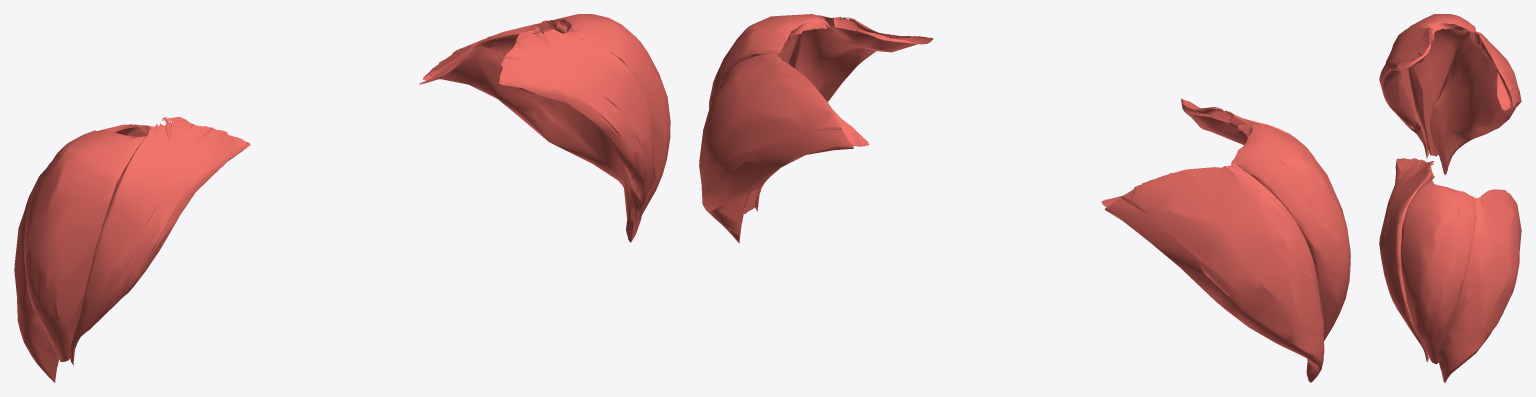
The model's file is supplement-shoulder-deltoid.glb.
3 views of the same model, side by side, from view 1: azimuth 30°, elevation 25°; view 2: azimuth 150°, elevation 25°; view 3: azimuth 270°, elevation 25° (orthographic). The views are drawn at different scales.
Visible parts, largest first — view 1: shoulder:deltoid:isa:FJ1468, shoulder:deltoid:isa:FJ1467, shoulder:deltoid:isa:FJ1468M, shoulder:deltoid:isa:FJ1513M, shoulder:deltoid:isa:FJ1467M, shoulder:deltoid:isa:FJ1513; view 2: shoulder:deltoid:isa:FJ1513, shoulder:deltoid:isa:FJ1513M, shoulder:deltoid:isa:FJ1467, shoulder:deltoid:isa:FJ1468M, shoulder:deltoid:isa:FJ1467M, shoulder:deltoid:isa:FJ1468; view 3: shoulder:deltoid:isa:FJ1467M, shoulder:deltoid:isa:FJ1513M, shoulder:deltoid:isa:FJ1513, shoulder:deltoid:isa:FJ1468M, shoulder:deltoid:isa:FJ1467, shoulder:deltoid:isa:FJ1468.
Boxes of the visible parts, x1,y1,x2,y2 form: shoulder:deltoid:isa:FJ1468: (70,116,250,365); shoulder:deltoid:isa:FJ1467: (24,130,145,361); shoulder:deltoid:isa:FJ1468M: (499,26,654,228); shoulder:deltoid:isa:FJ1513M: (419,20,641,242); shoulder:deltoid:isa:FJ1467M: (550,14,670,221); shoulder:deltoid:isa:FJ1513: (14,124,151,382); shoulder:deltoid:isa:FJ1513: (1101,161,1324,382); shoulder:deltoid:isa:FJ1513M: (699,49,868,243); shoulder:deltoid:isa:FJ1467: (1231,123,1350,340); shoulder:deltoid:isa:FJ1468M: (755,15,933,211); shoulder:deltoid:isa:FJ1467M: (709,14,829,213); shoulder:deltoid:isa:FJ1468: (1180,98,1314,158); shoulder:deltoid:isa:FJ1467M: (1401,181,1475,364); shoulder:deltoid:isa:FJ1513M: (1438,189,1521,382); shoulder:deltoid:isa:FJ1513: (1430,30,1521,174); shoulder:deltoid:isa:FJ1468M: (1379,158,1434,362); shoulder:deltoid:isa:FJ1467: (1408,14,1475,156); shoulder:deltoid:isa:FJ1468: (1379,26,1434,158).
Size of the model in its own units: 0.4545 by 0.1676 by 0.1186.
